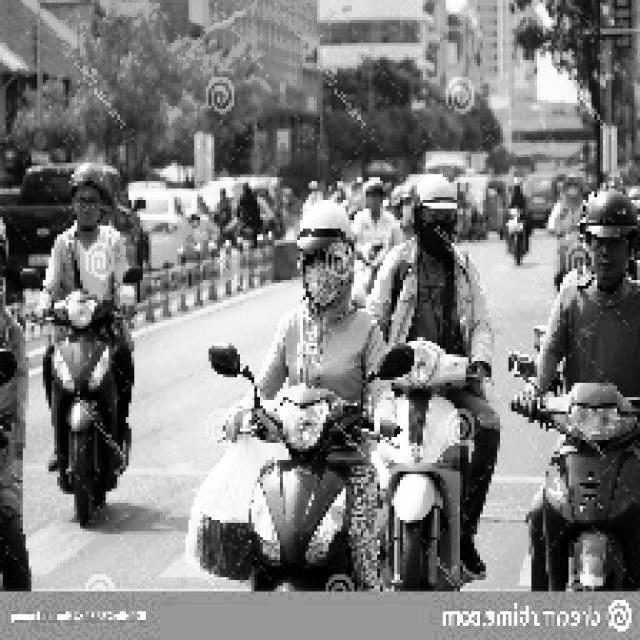Bike: (228, 370, 368, 592), (375, 329, 473, 585), (40, 284, 142, 509), (530, 363, 618, 591)
